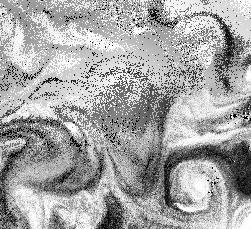CE: (161, 143, 233, 217)
